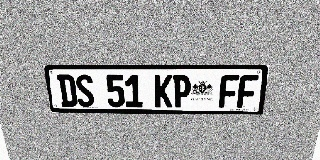1: (124, 75, 143, 107)
5: (106, 75, 125, 107)
D: (57, 75, 78, 107)
F: (237, 75, 259, 108), (218, 75, 239, 108)
K: (154, 75, 172, 107)
P: (173, 75, 191, 108)
S: (74, 75, 95, 107)
